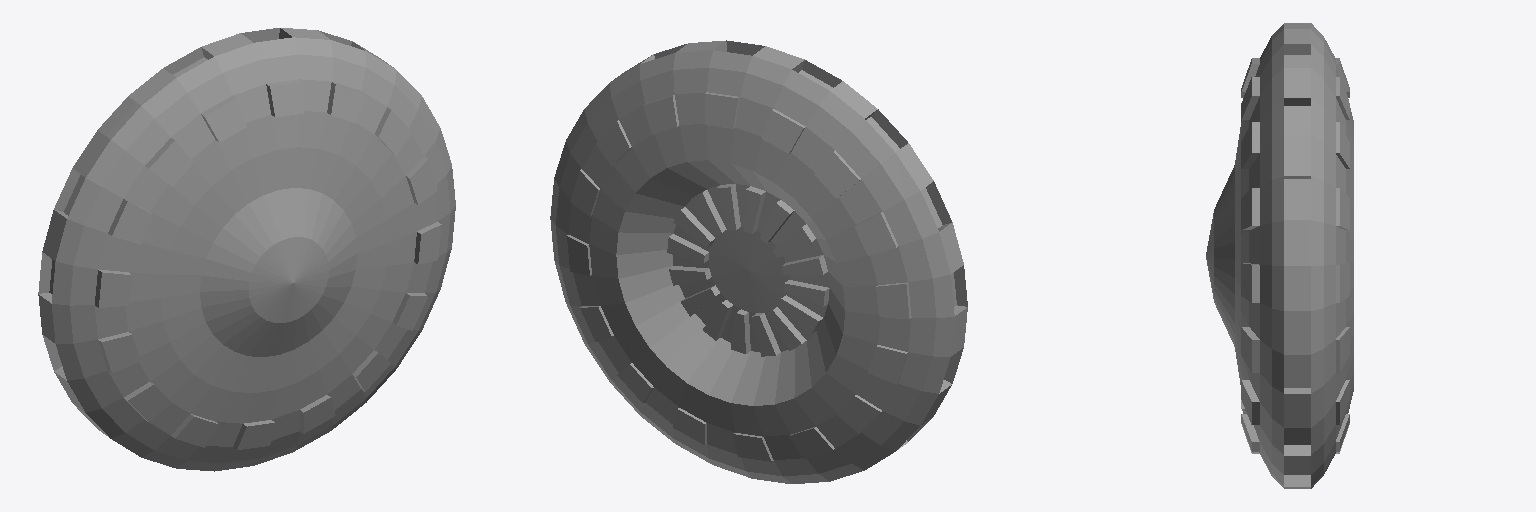
The model's file is Circle_Enemy.obj.
3 views of the same model, side by side, from view 1: azimuth 30°, elevation 25°; view 2: azimuth 150°, elevation 25°; view 3: azimuth 270°, elevation 25° (orthographic).
Visible parts, largest first — view 1: Enemy_Ship_All_Shot; view 2: Enemy_Ship_All_Shot; view 3: Enemy_Ship_All_Shot.
Boxes of the visible parts, x1=… form: Enemy_Ship_All_Shot: x1=38, y1=28, x2=455, y2=471; Enemy_Ship_All_Shot: x1=550, y1=40, x2=967, y2=483; Enemy_Ship_All_Shot: x1=1206, y1=23, x2=1353, y2=488.
Bounding box in the file's own units: 2.94 × 2.94 × 0.9365.